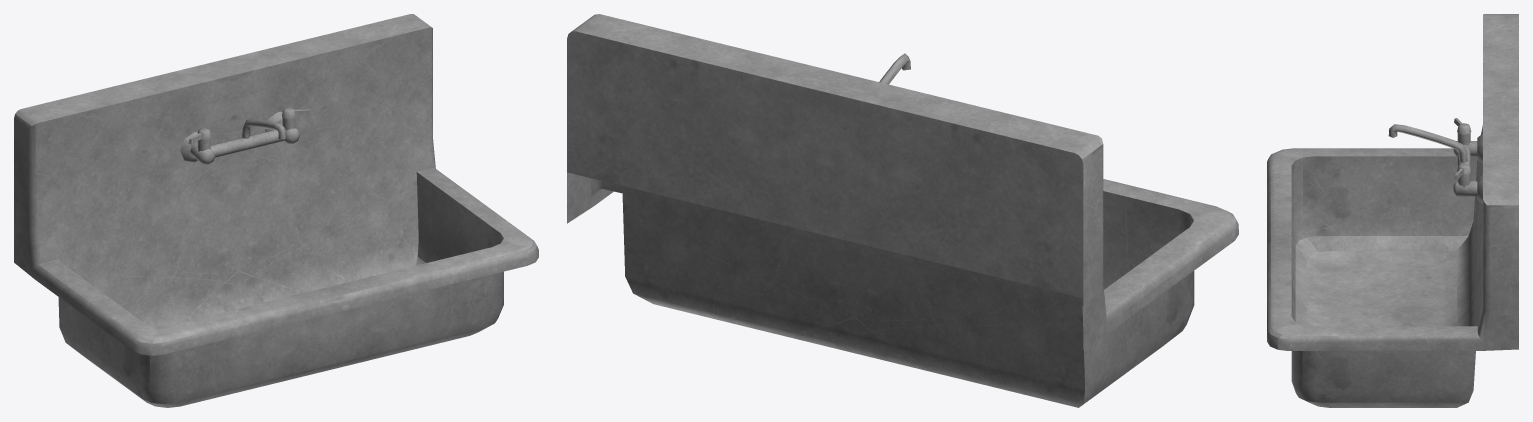
File: SM_Sink_01.fbx
3 renders of one model, left to right at view 1: azimuth 30°, elevation 25°; view 2: azimuth 150°, elevation 25°; view 3: azimuth 270°, elevation 25°, orthographic. The views are drawn at different scales.
Parts seen in each view (by area): view 1: Sink, FaucetHandles, Faucet; view 2: Sink; view 3: Sink, FaucetHandles, Faucet.
Boxes of the visible parts, x1,y1,x2,y2 form: Sink: (14, 14, 538, 407); FaucetHandles: (180, 107, 312, 164); Faucet: (242, 119, 286, 139); Sink: (567, 14, 1238, 407); Sink: (1267, 14, 1518, 407); FaucetHandles: (1453, 118, 1482, 203); Faucet: (1388, 124, 1467, 162).
Bounding box in the file's own units: 124 × 68.8 × 69.42.
